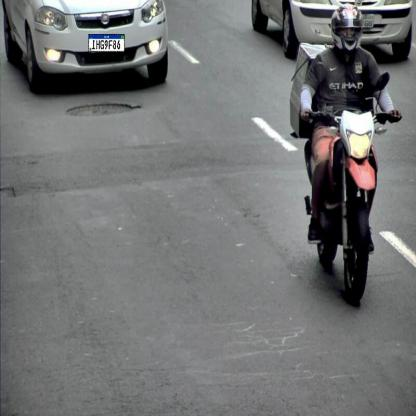PlacaM: (88, 34, 125, 52)
